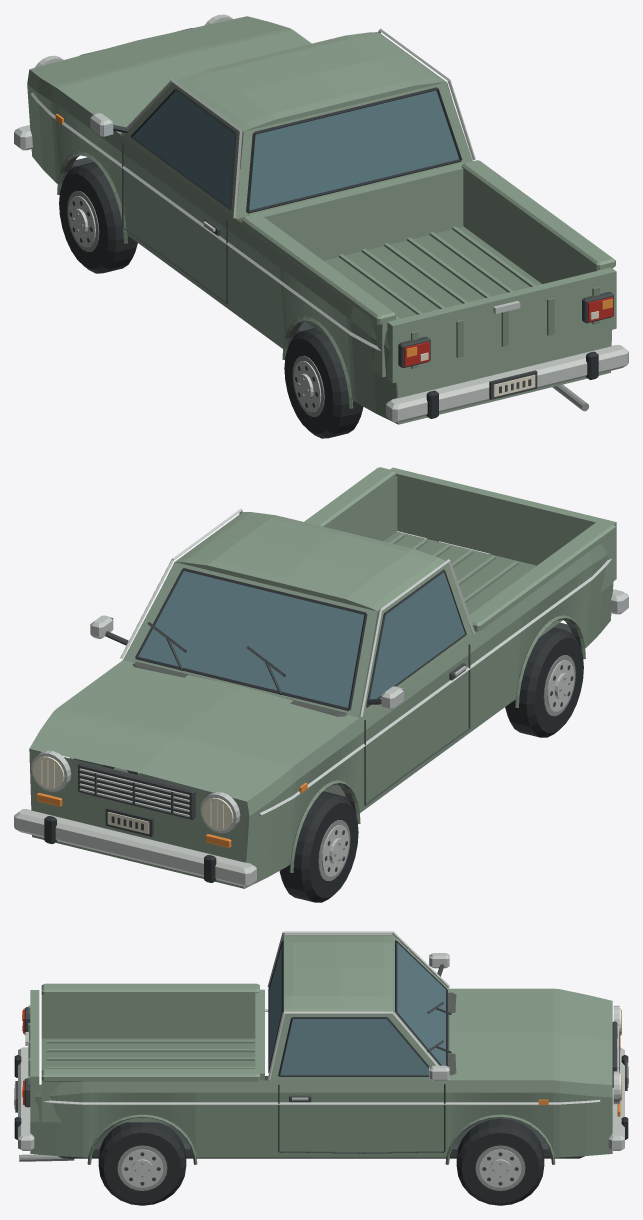
File: 08_work_pickup.glb
The picture shows the model from 3 angles, top to bottom: view 1: azimuth 30°, elevation 25°; view 2: azimuth 150°, elevation 25°; view 3: azimuth 270°, elevation 25°; orthographic projection. The views are drawn at different scales.
Visible parts, largest first — view 1: Body, Door_Front_L, Tailgate, Hood, Exterior_Details, Wheel_FL, Wheel_RL; view 2: Body, Hood, Door_Front_L, Exterior_Details, Tailgate, Wheel_FL, Wheel_RL, Interior, Door_Front_R; view 3: Body, Door_Front_R, Hood, Wheel_FR, Wheel_RR, Exterior_Details, Tailgate, Interior.
Part boxes in pixels (x1,y1,x2,y2): Body: (27, 32, 615, 424); Door_Front_L: (90, 83, 239, 311); Tailgate: (387, 267, 616, 424); Hood: (30, 16, 311, 133); Exterior_Details: (14, 14, 628, 422); Wheel_FL: (59, 162, 137, 273); Wheel_RL: (284, 328, 363, 438); Body: (29, 467, 615, 888); Hood: (29, 660, 358, 801); Door_Front_L: (359, 563, 472, 812); Exterior_Details: (14, 508, 628, 886); Tailgate: (390, 467, 616, 581); Wheel_FL: (279, 791, 358, 902); Wheel_RL: (505, 627, 583, 737); Interior: (132, 649, 371, 797); Door_Front_R: (90, 512, 242, 645); Body: (19, 934, 612, 1164); Door_Front_R: (269, 1014, 449, 1157); Hood: (449, 988, 612, 1085); Wheel_FR: (456, 1118, 544, 1205); Wheel_RR: (98, 1122, 186, 1205); Exterior_Details: (14, 931, 628, 1150); Tailgate: (25, 990, 39, 1121); Interior: (448, 992, 456, 1075).
Bounding box in the file's own units: 2.23 × 1.69 × 4.91.
